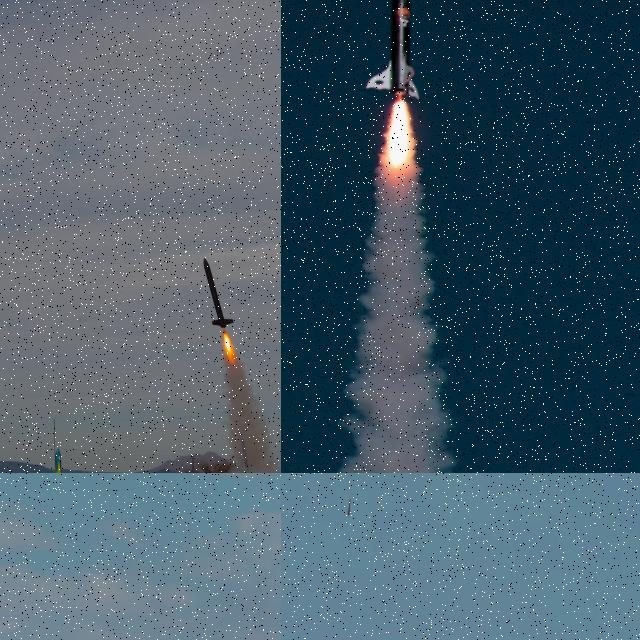Rocket: (365, 0, 421, 102), (202, 257, 235, 329), (46, 446, 68, 473), (348, 499, 350, 516)
